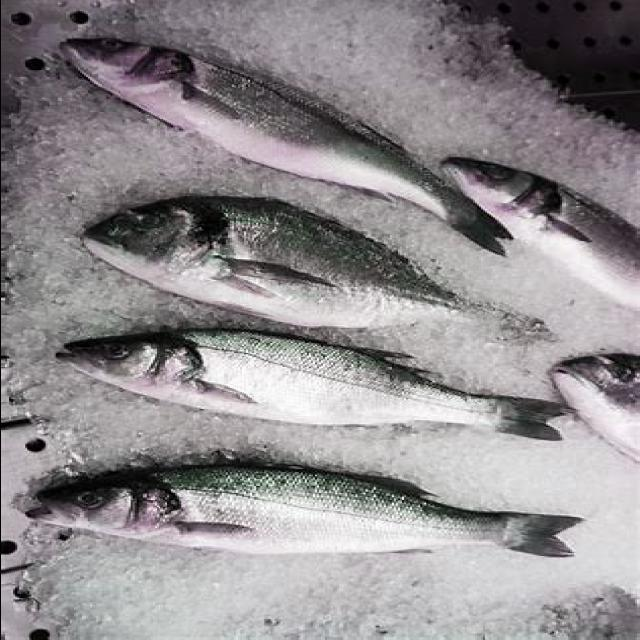Healthy Fish: (52, 18, 570, 584), (430, 103, 640, 463)
